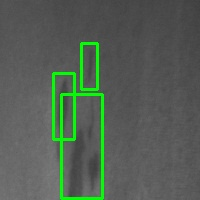inclusion: (61, 94, 102, 198), (53, 73, 74, 139), (81, 43, 97, 89)
